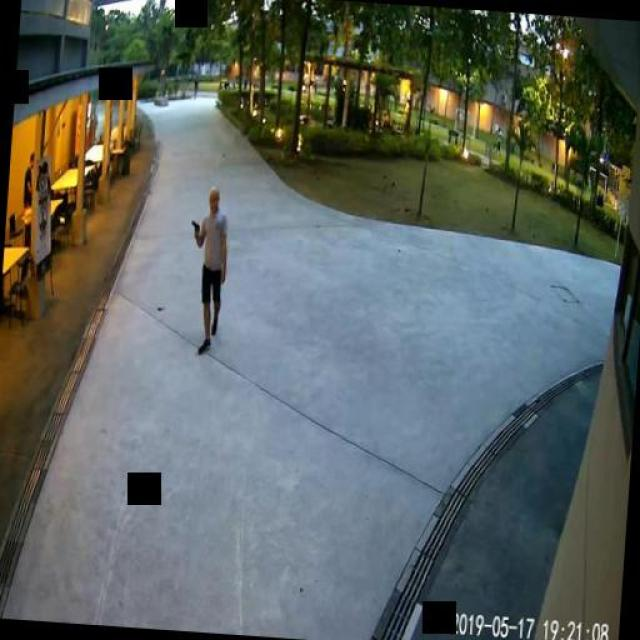gun: (190, 219, 199, 239)
